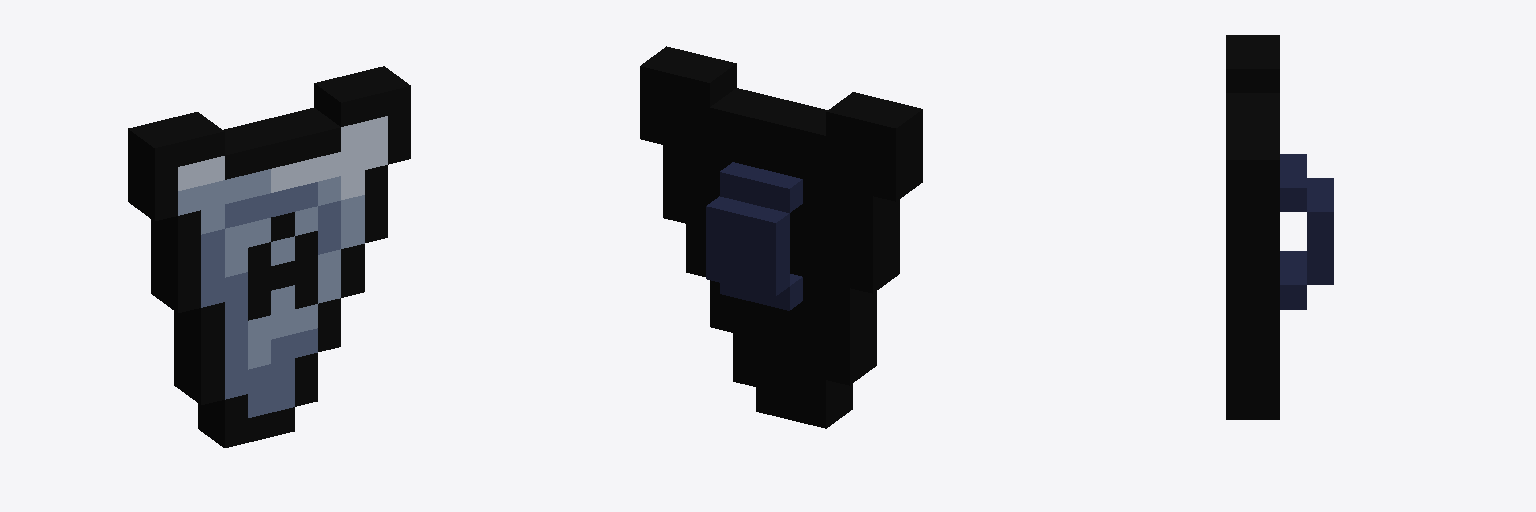
3 views of the same model, side by side, from view 1: azimuth 30°, elevation 25°; view 2: azimuth 150°, elevation 25°; view 3: azimuth 270°, elevation 25° (orthographic).
Visible parts, largest first — view 1: object 1; view 2: object 1; view 3: object 1.
Boxes of the visible parts, x1,y1,x2,y2 form: object 1: [128, 66, 410, 447]; object 1: [640, 46, 922, 428]; object 1: [1226, 35, 1333, 419].
Bounding box in the file's own units: 1.1 × 1.3 × 0.4.
1 materials, 1 textured.